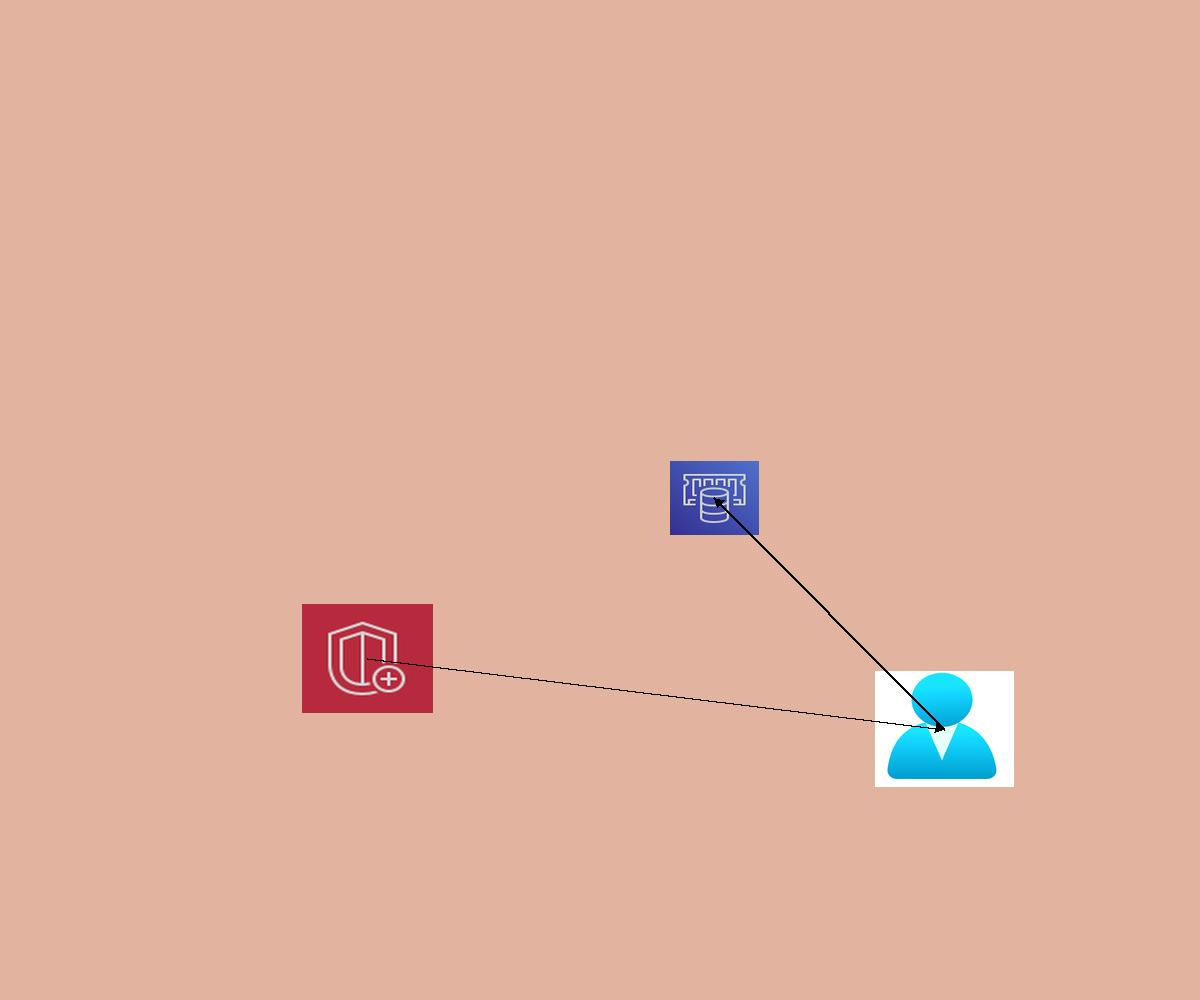AWS-ElastiCache: (670, 461, 759, 535)
AWS-Shield: (302, 604, 433, 713)
Azure_users: (875, 671, 1014, 787)
